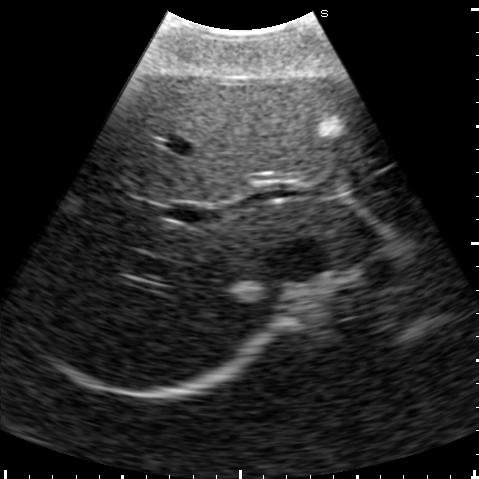IVC: (271, 241, 324, 280)
S2: (349, 171, 424, 230)
S3: (317, 76, 391, 185)
S4: (112, 77, 336, 203)
Tumor: (228, 281, 262, 300), (318, 118, 345, 139)
